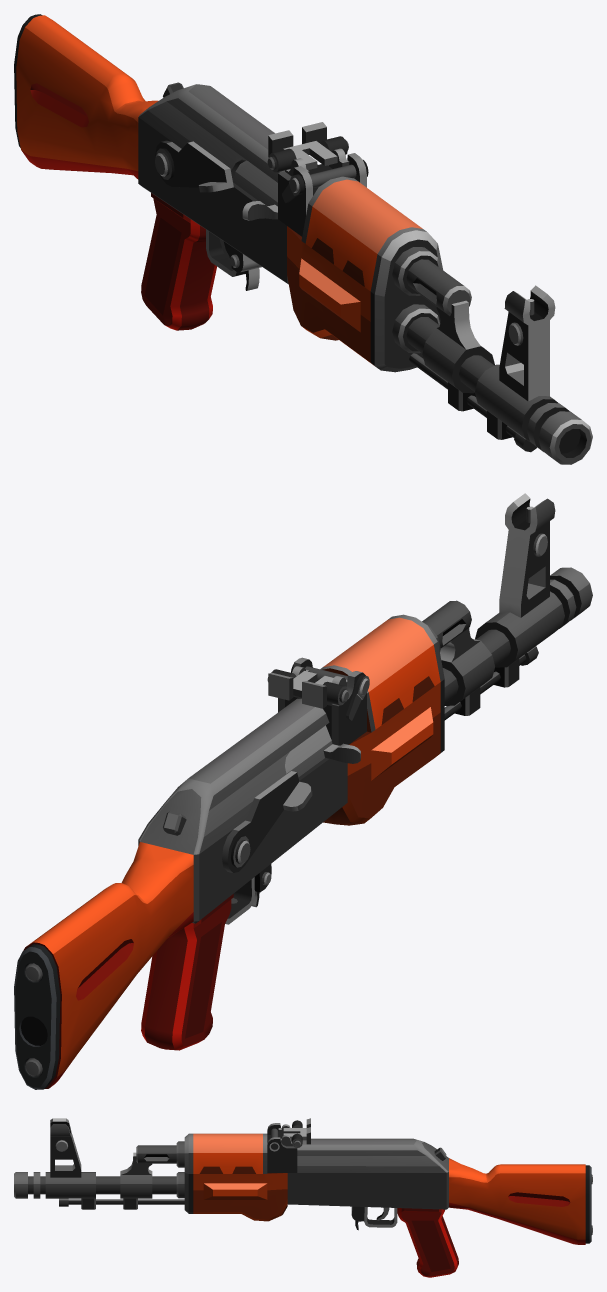
The model's file is AK74Body.fbx.
3 views of the same model, one above another, from view 1: azimuth 30°, elevation 25°; view 2: azimuth 150°, elevation 25°; view 3: azimuth 270°, elevation 25° (orthographic). The views are drawn at different scales.
Visible parts, largest first — view 1: AK74Body; view 2: AK74Body; view 3: AK74Body.
Part boxes in pixels (x1,y1,x2,y2): AK74Body: (14, 14, 592, 464); AK74Body: (14, 493, 592, 1089); AK74Body: (14, 1118, 592, 1277).
Bounding box in the file's own units: 13.3 × 34.88 × 119.
